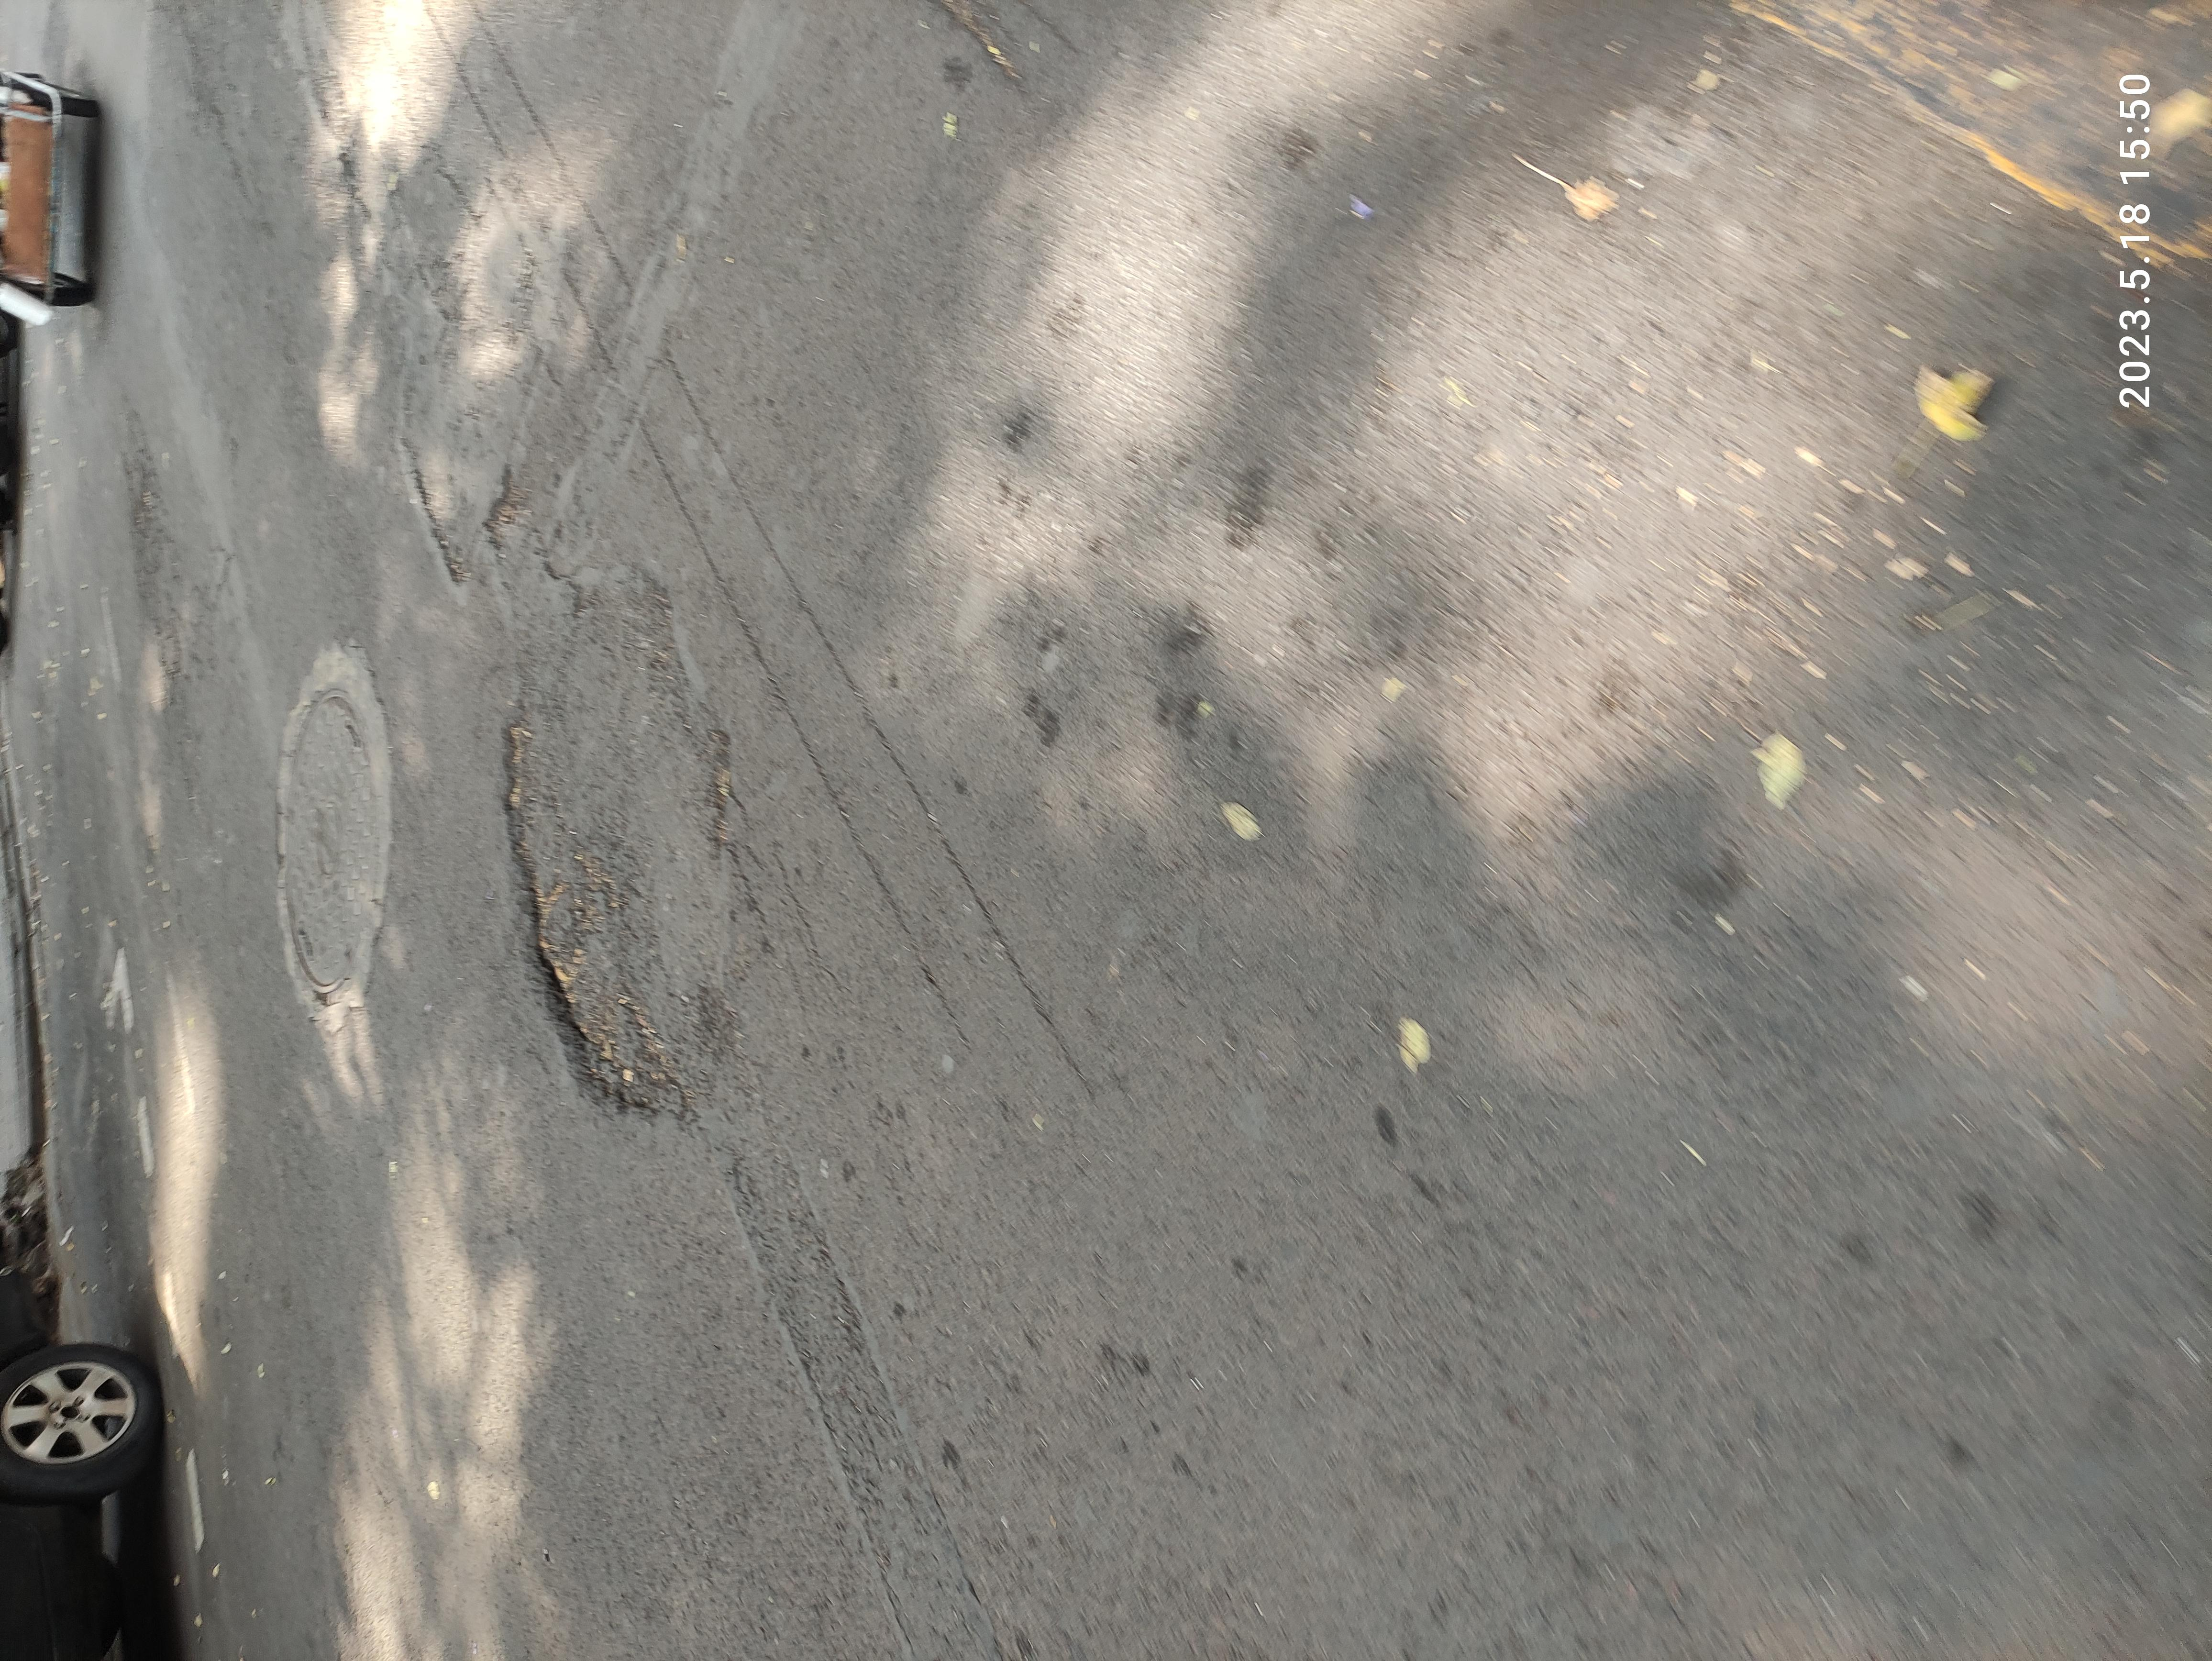alligator-crack: (1260, 84, 1636, 171)
crack: (1441, 354, 1614, 401)
pothole: (698, 366, 1315, 515), (1429, 297, 1638, 349)
